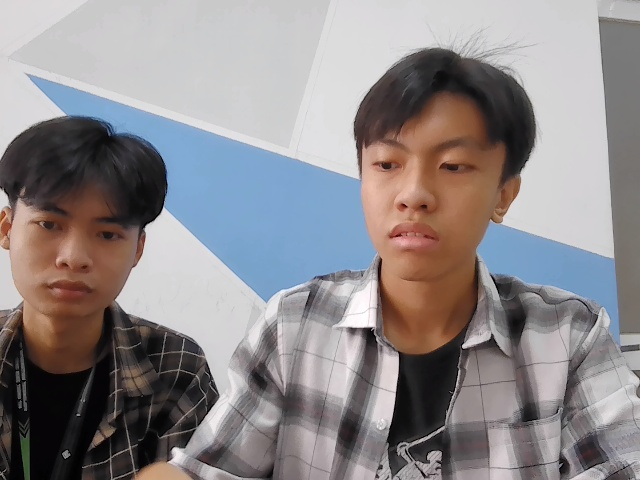human: (353, 49, 535, 287), (1, 115, 174, 314)
